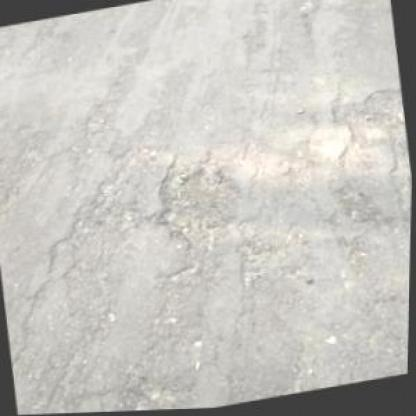pothole: (150, 152, 254, 258), (114, 370, 198, 411)
